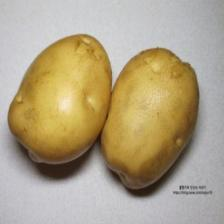Potato: (100, 46, 200, 190), (7, 33, 112, 168)
